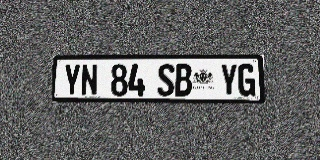4: (128, 64, 145, 96)
8: (111, 64, 128, 96)
B: (175, 64, 192, 96)
G: (238, 64, 256, 96)
N: (81, 64, 98, 96)
S: (157, 64, 174, 96)
Y: (220, 64, 238, 96), (63, 64, 80, 96)
